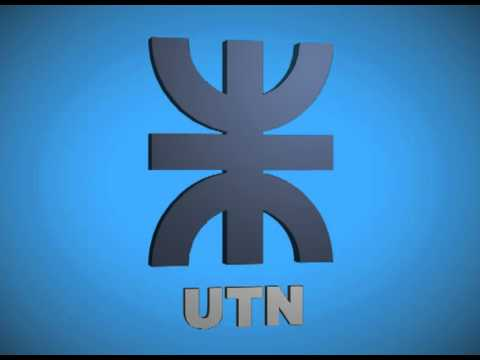utn: (144, 36, 339, 267)
